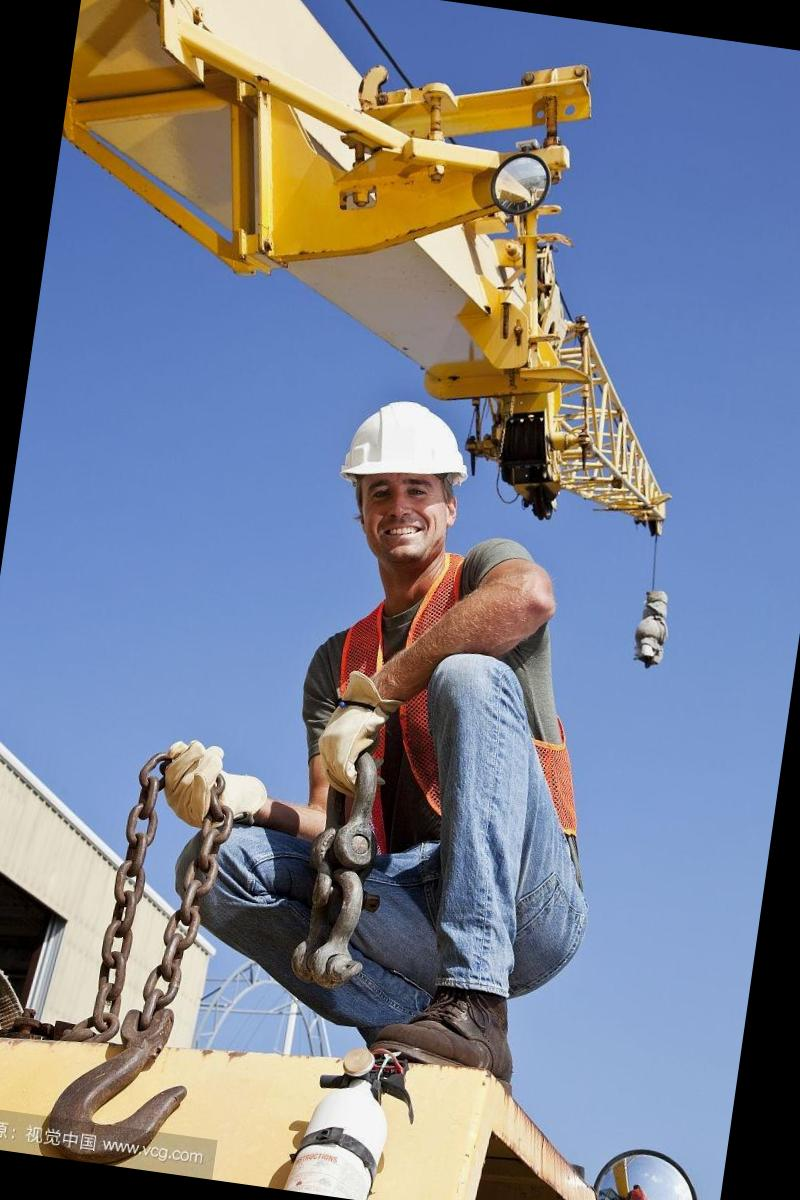helmet: (340, 390, 474, 492)
no_vest: (268, 540, 602, 881)
person: (131, 337, 670, 1108)
